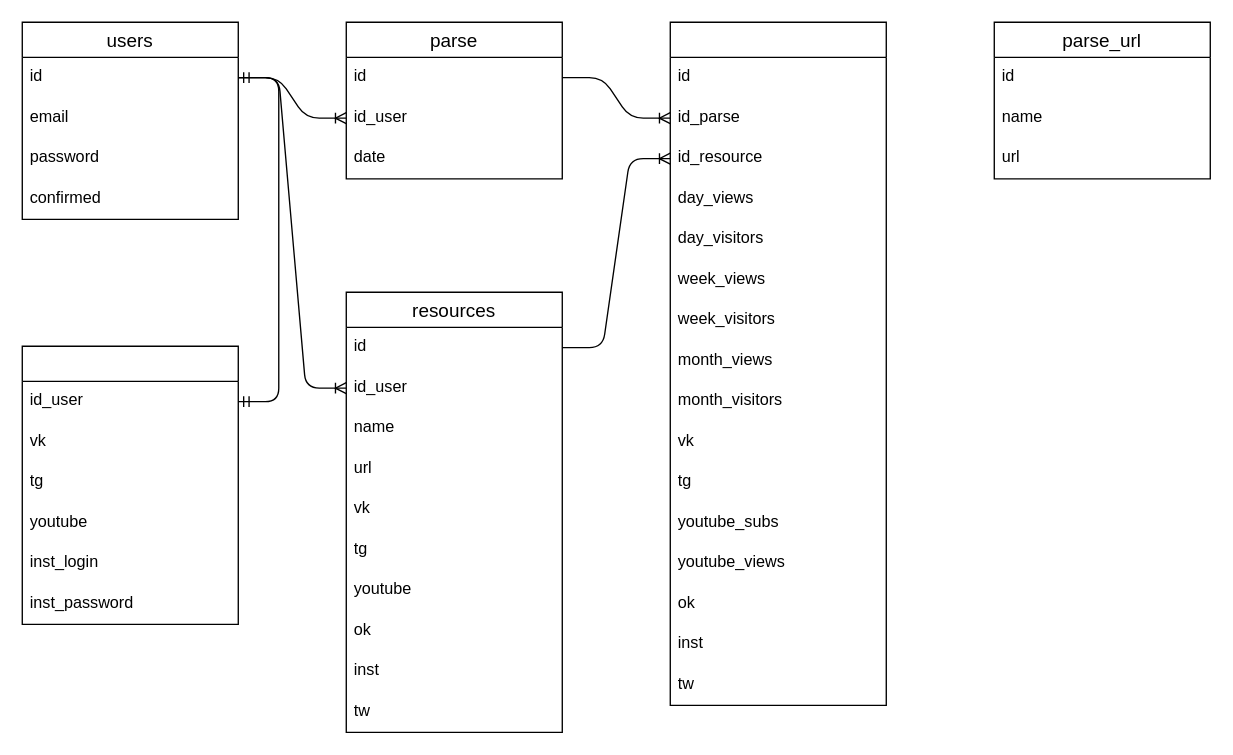
The diagram is 1233 pixels wide and 755 high, and some of its shapes have lost their labels. The shapes that lost their labels are listed below. From the top down, each one's box as (x1, y1, x2, y2) in pixels, then its label:
(669, 21, 886, 705): parse_info
(21, 345, 238, 624): tokens
